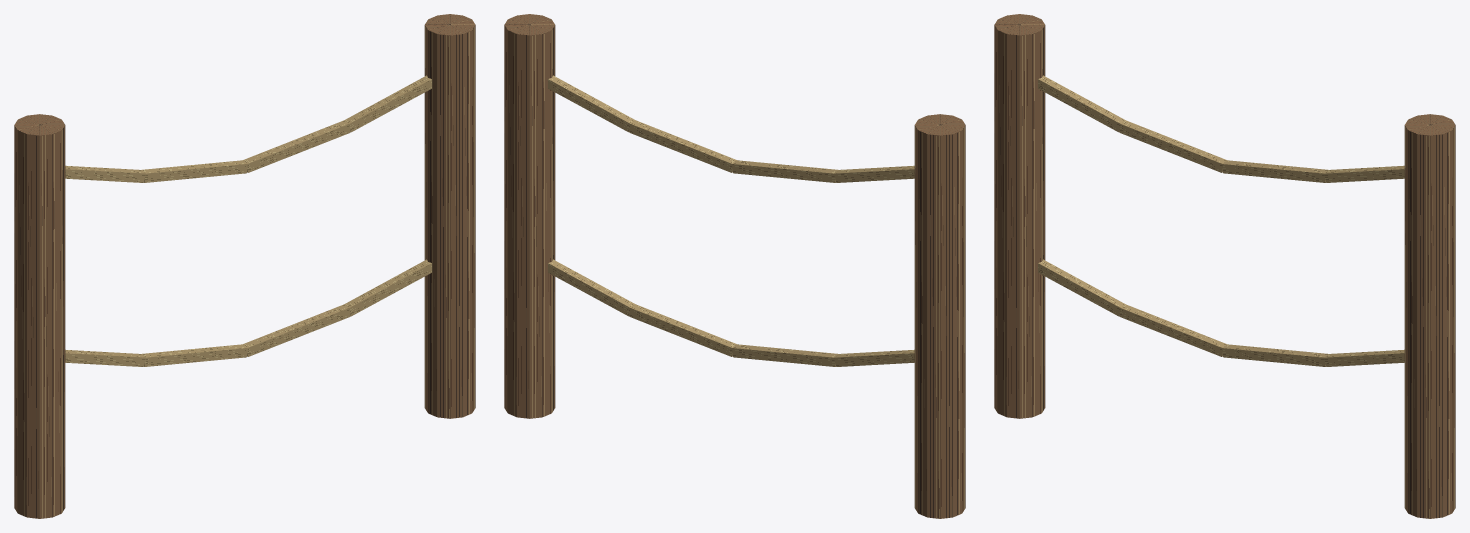
The model's file is dock_rope_railing.gltf.
3 renders of one model, left to right at view 1: azimuth 30°, elevation 25°; view 2: azimuth 150°, elevation 25°; view 3: azimuth 330°, elevation 25°, orthographic.
Visible parts, largest first — view 1: post (×2), rope (×8); view 2: post (×2), rope (×8); view 3: post (×2), rope (×8).
Part boxes in pixels (left/top/right/bottom): post (×2): left=14, top=14, right=475, bottom=518; rope (×8): left=65, top=75, right=431, bottom=366; post (×2): left=504, top=14, right=965, bottom=518; rope (×8): left=548, top=75, right=914, bottom=366; post (×2): left=994, top=14, right=1455, bottom=518; rope (×8): left=1038, top=75, right=1404, bottom=366.
Bounding box in the file's own units: 1.94 × 1.56 × 0.1875.
2 materials, 2 textured.
